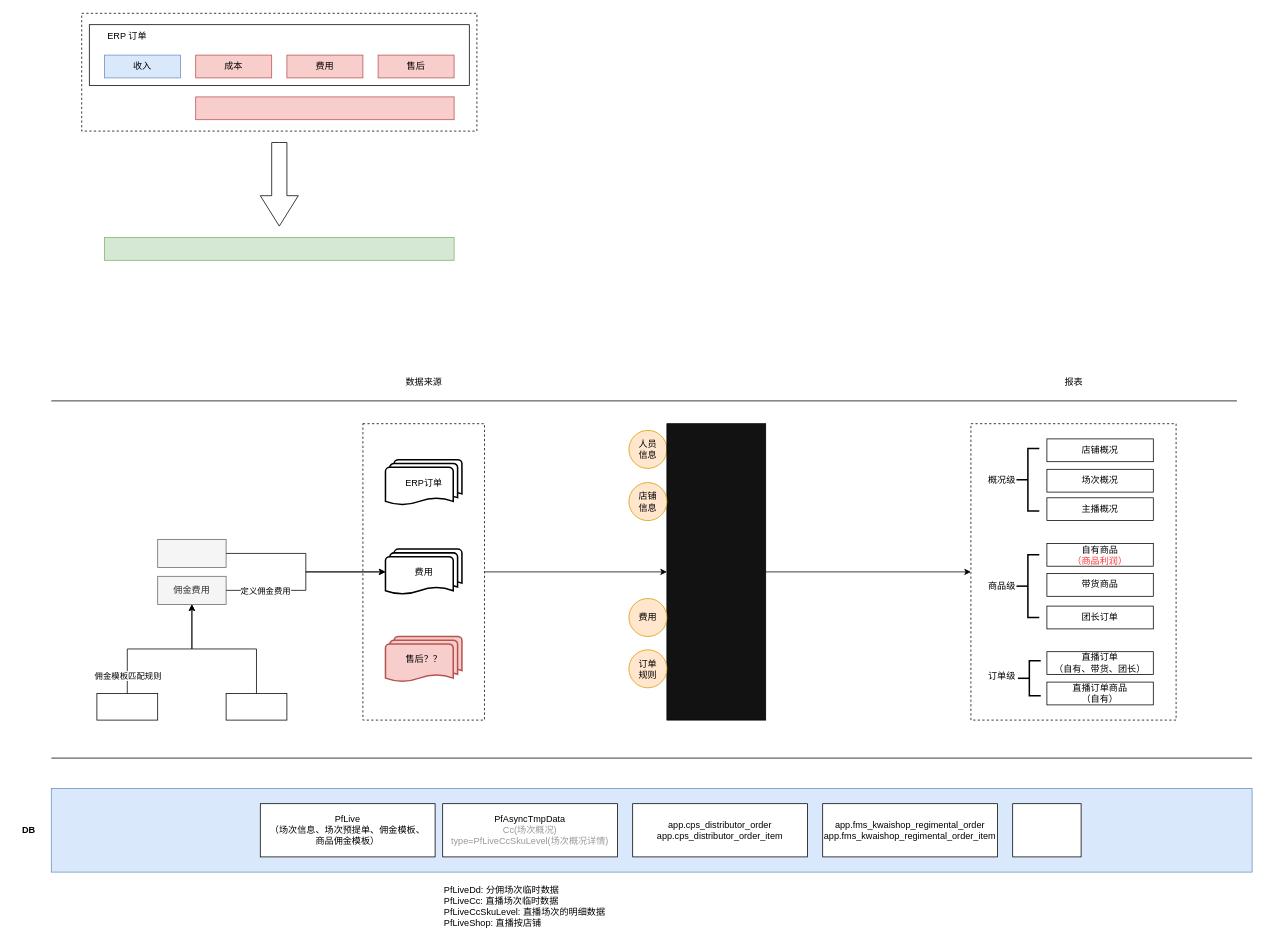
This 1266x946 diagram has some shape labels left out. The shapes that lost their labels are listed below. From the top down, each one's centre as x and y in pixels, then its label:
At (x=324, y=108): "其他费用（直播佣金、场次费......）".
At (x=279, y=248): "利润".
At (x=191, y=553): "场次费用".
At (x=716, y=571): "场次 （带货场次、 自有场次、 自有&带货场次）".
At (x=127, y=706): "佣金模板".
At (x=256, y=706): "商品佣金模板".
At (x=1046, y=830): "rpt.shop_day".
